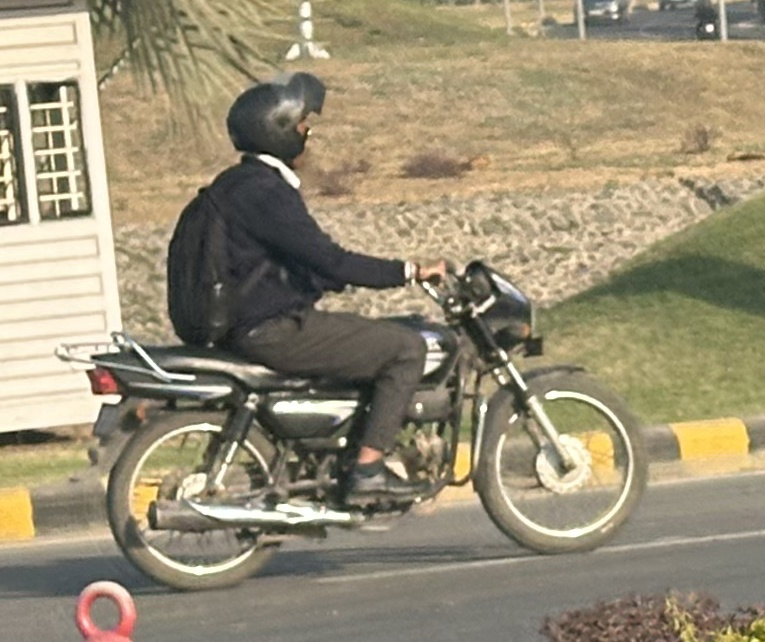BikeWithRider: (43, 64, 658, 599)
Helmet: (213, 64, 336, 170)
